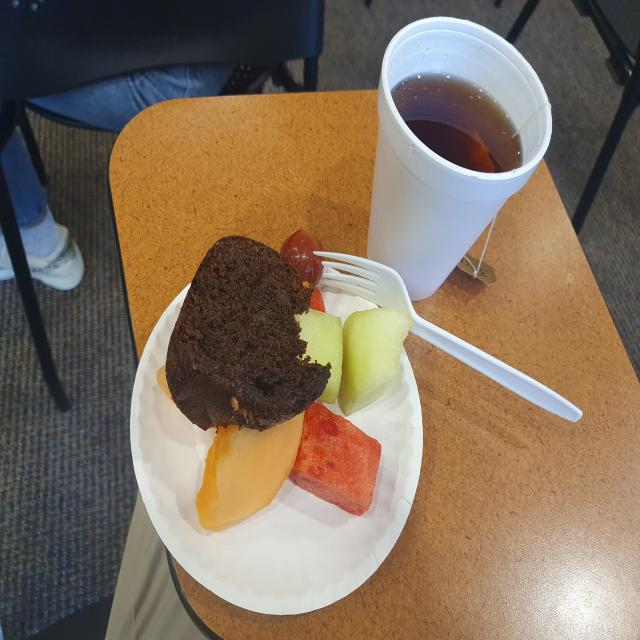Cup: (366, 15, 553, 302)
Plate: (129, 276, 424, 616)
